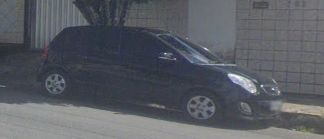car: (37, 25, 281, 130)
